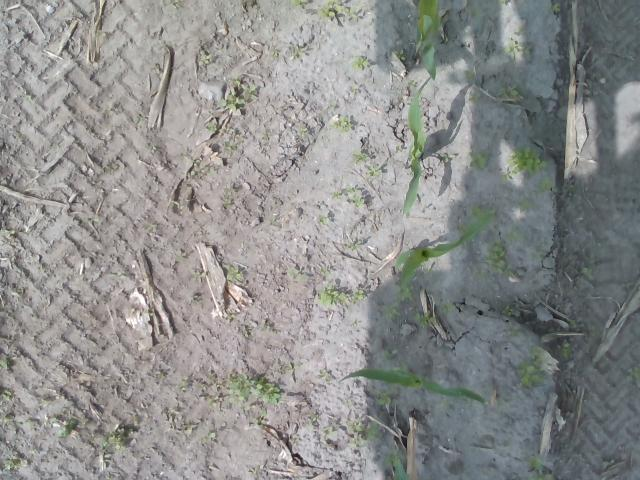Maize: (392, 209, 498, 290), (338, 362, 489, 406), (402, 94, 426, 214), (415, 1, 444, 82), (388, 445, 412, 480)
Weeds: (227, 374, 282, 412), (500, 146, 548, 180), (215, 77, 258, 113), (486, 240, 518, 278), (516, 345, 544, 386), (316, 284, 365, 306), (317, 0, 358, 25), (346, 418, 380, 446), (44, 416, 76, 438), (98, 427, 126, 452), (502, 41, 532, 62), (528, 455, 553, 480), (2, 447, 20, 472), (468, 150, 491, 168), (495, 84, 524, 98), (328, 114, 350, 130), (556, 341, 574, 360), (383, 304, 401, 322), (414, 310, 430, 330), (376, 391, 394, 408), (348, 186, 363, 206), (400, 286, 416, 302), (283, 361, 304, 373), (225, 265, 240, 281), (352, 55, 368, 70), (190, 158, 202, 177), (624, 366, 640, 380), (391, 48, 407, 61), (439, 302, 456, 314), (538, 178, 552, 192), (462, 70, 475, 85), (496, 304, 512, 316), (198, 50, 210, 66), (384, 348, 398, 361), (0, 228, 18, 238), (220, 142, 236, 153), (352, 152, 369, 162), (206, 395, 218, 408), (581, 266, 592, 280), (306, 416, 318, 428), (174, 381, 187, 392), (466, 94, 480, 104), (110, 272, 127, 280), (346, 239, 358, 250), (0, 416, 14, 425), (1, 390, 12, 401), (367, 168, 379, 178), (292, 46, 304, 56), (318, 268, 332, 276), (405, 80, 418, 88), (552, 3, 562, 13), (208, 122, 218, 132), (191, 270, 201, 280), (299, 126, 308, 137), (0, 358, 8, 370), (290, 0, 306, 6), (208, 432, 218, 441), (23, 95, 32, 104), (570, 320, 578, 330), (334, 191, 342, 200), (318, 216, 327, 224), (498, 0, 511, 5), (270, 49, 278, 57)
